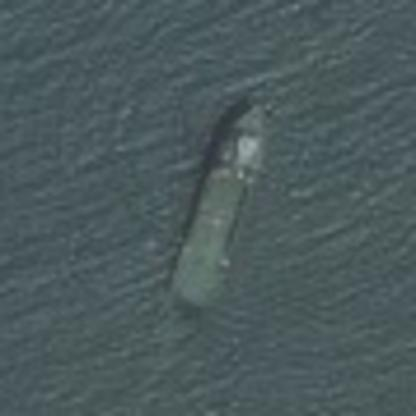ship: (154, 95, 274, 319)
